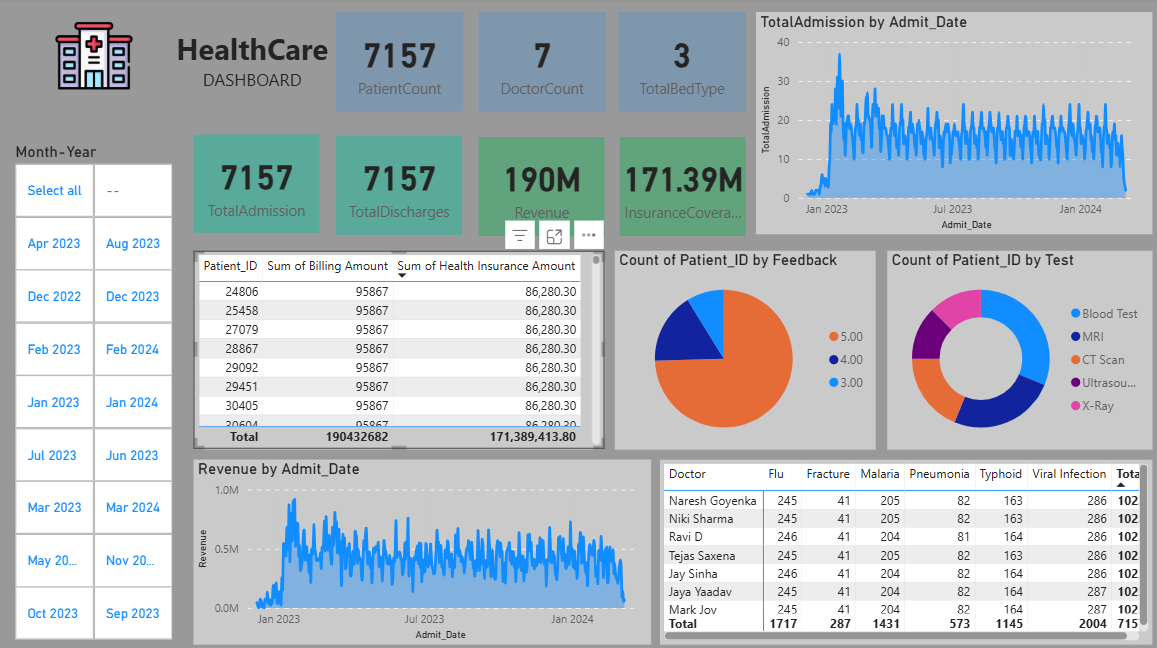

The dashboard page shown, as its layout file describes it:
{"tool":"powerbi","page":{"name":"Page 1","canvas":[1280,720],"ordinal":0},"visuals":[{"type":"card","fields":{"Values":["Sheet1.patient_count"]},"box":[373.2,16.5,140,109.8],"z":0},{"type":"card","fields":{"Values":["Sheet1.doctor_count"]},"box":[529.7,16.5,140,109.8],"z":1000},{"type":"card","fields":{"Values":["Sheet1.total_bed_count"]},"box":[683.4,16.5,140,109.8],"z":2000},{"type":"card","fields":{"Values":["Sheet1.Revenue"]},"box":[529.7,153.7,138.6,108.4],"z":3000},{"type":"card","fields":{"Values":["Sheet1.InsuranceCoverage"]},"box":[684.7,153.7,138.6,108.4],"z":4000},{"type":"card","fields":{"Values":["Sheet1.TotalAdmission"]},"box":[216.8,150.9,138,108],"z":5000},{"type":"card","fields":{"Values":["Sheet1.TotalDischarge"]},"box":[373.2,152.3,138.6,108.4],"z":6000},{"type":"lineChart","fields":{"Category":["Sheet1.Admit_Date.Variation.Date Hierarchy.Day"],"Y":["Sheet1.TotalAdmission"]},"box":[834.3,16.5,435,244.3],"z":7000},{"type":"advancedSlicerVisual","fields":{"Values":["DateTable.Month-Year"]},"box":[16.5,159.2,182.5,551.6],"z":8000},{"type":"areaChart","fields":{"Category":["Sheet1.Admit_Date"],"Y":["Sheet1.Revenue"]},"box":[216.8,507.7,502.2,203.1],"z":9000},{"type":"donutChart","fields":{"Category":["Sheet1.Test"],"Y":["Sheet1.Patient_ID"]},"box":[978.4,278.6,290.9,218.2],"z":10000},{"type":"pivotTable","fields":{"Rows":["Sheet1.Doctor"],"Values":["Sheet1.Patient_ID"],"Columns":["Sheet1.Diagnosis"]},"box":[728.6,507.7,540.7,203.1],"z":11000},{"type":"tableEx","fields":{"Values":["Sheet1.Patient_ID","Sheet1.Billing Amount","Sheet1.Health Insurance Amount"]},"box":[216.8,278.6,451.5,218.2],"z":12000},{"type":"image","box":[60.4,16.5,94.7,96.1],"z":13000},{"type":"pieChart","fields":{"Category":["Sheet1.Feedback"],"Y":["Sheet1.Patient_ID"]},"box":[679.2,278.6,286.8,218.2],"z":14000},{"type":"textbox","box":[190,30,183.9,83.7],"z":15000}]}

Visuals, with their boxes in screenshot pixels (x1, y1, x2, y2), scaled from the page's 1280x720 canvas onto the 1157x648 screenshot:
card - Sheet1.patient_count: (left=337, top=15, right=464, bottom=114)
card - Sheet1.doctor_count: (left=479, top=15, right=605, bottom=114)
card - Sheet1.total_bed_count: (left=618, top=15, right=744, bottom=114)
card - Sheet1.Revenue: (left=479, top=138, right=604, bottom=236)
card - Sheet1.InsuranceCoverage: (left=619, top=138, right=744, bottom=236)
card - Sheet1.TotalAdmission: (left=196, top=136, right=321, bottom=233)
card - Sheet1.TotalDischarge: (left=337, top=137, right=463, bottom=235)
lineChart - Sheet1.Admit_Date.Variation.Date Hierarchy.Day x Sheet1.TotalAdmission: (left=754, top=15, right=1147, bottom=235)
advancedSlicerVisual - DateTable.Month-Year: (left=15, top=143, right=180, bottom=640)
areaChart - Sheet1.Admit_Date x Sheet1.Revenue: (left=196, top=457, right=650, bottom=640)
donutChart - Sheet1.Test x Sheet1.Patient_ID: (left=884, top=251, right=1147, bottom=447)
pivotTable - Sheet1.Doctor x Sheet1.Patient_ID: (left=659, top=457, right=1147, bottom=640)
tableEx - Sheet1.Patient_ID x Sheet1.Billing Amount: (left=196, top=251, right=604, bottom=447)
image: (left=55, top=15, right=140, bottom=101)
pieChart - Sheet1.Feedback x Sheet1.Patient_ID: (left=614, top=251, right=873, bottom=447)
textbox: (left=172, top=27, right=338, bottom=102)
